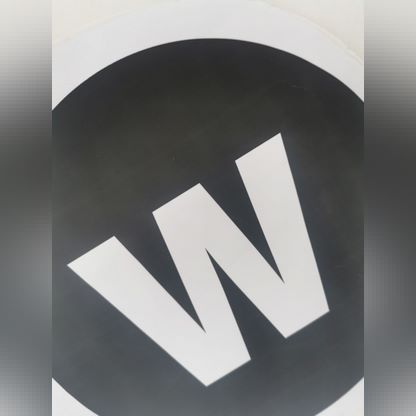W: (49, 47, 408, 416)
